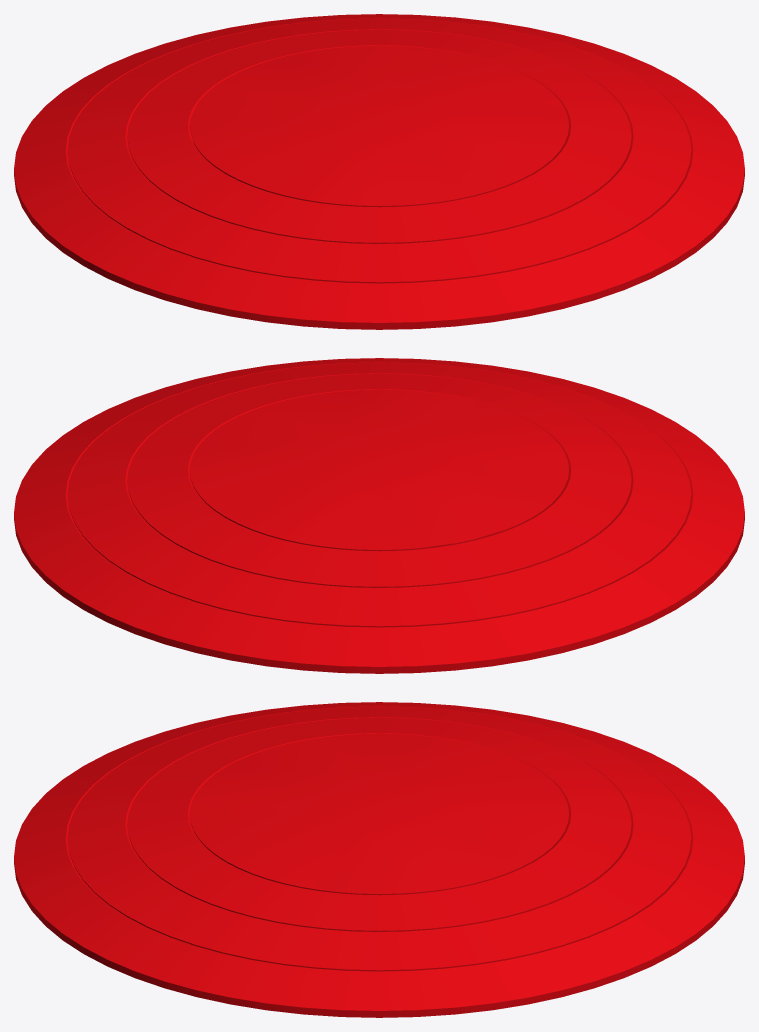
The model's file is escudo 2.fbx.
The picture shows the model from 3 angles, top to bottom: view 1: azimuth 30°, elevation 25°; view 2: azimuth 150°, elevation 25°; view 3: azimuth 270°, elevation 25°; orthographic projection.
Visible parts, largest first — view 1: Circle; view 2: Circle; view 3: Circle.
Part boxes in pixels (x1=…): Circle: x1=14, y1=14, x2=744, y2=329; Circle: x1=14, y1=358, x2=744, y2=673; Circle: x1=14, y1=702, x2=744, y2=1017.
Size of the model in its own units: 289 by 26.95 by 289.
